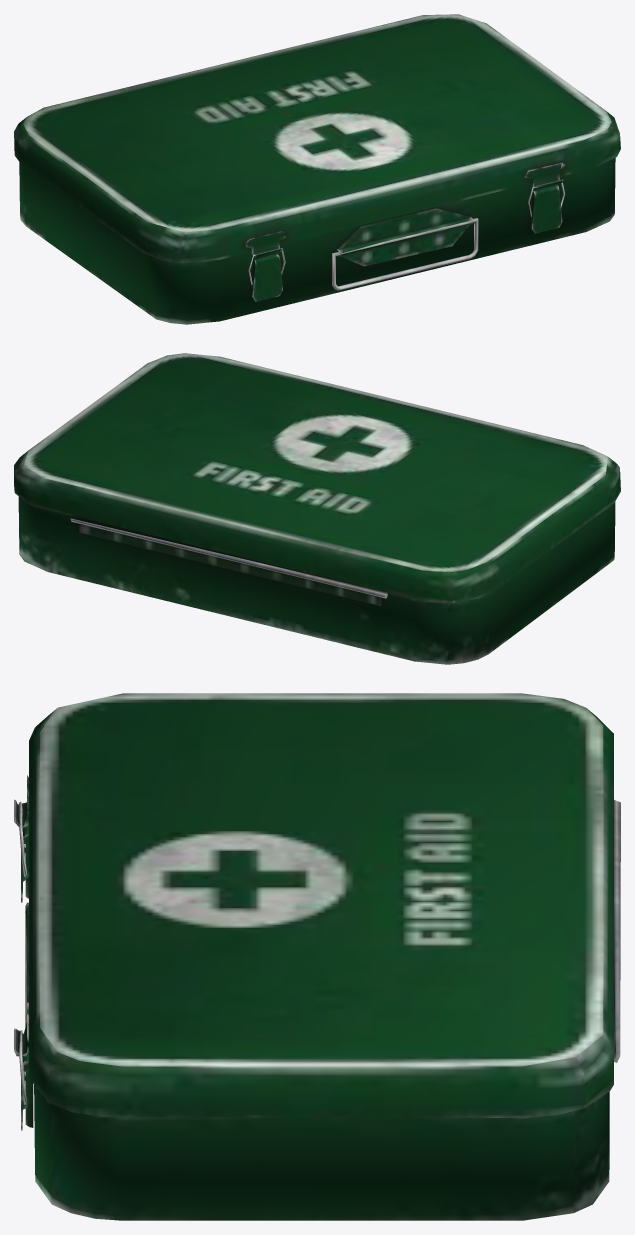
Rendered from medical_box.glb.
3 renders of one model, top to bottom at view 1: azimuth 30°, elevation 25°; view 2: azimuth 150°, elevation 25°; view 3: azimuth 270°, elevation 25°, orthographic. The views are drawn at different scales.
Parts seen in each view (by area): view 1: medical_box_lid, medical_box, medical_box_latch, medical_box_handle; view 2: medical_box_lid, medical_box; view 3: medical_box_lid, medical_box.
Part boxes in pixels (bbox=[...]): medical_box_lid: bbox=[14, 14, 620, 263]; medical_box: bbox=[19, 158, 615, 324]; medical_box_latch: bbox=[251, 184, 562, 301]; medical_box_handle: bbox=[332, 218, 478, 290]; medical_box_lid: bbox=[14, 353, 620, 602]; medical_box: bbox=[18, 496, 615, 664]; medical_box_lid: bbox=[14, 693, 613, 1118]; medical_box: bbox=[25, 800, 620, 1220].
Bounding box in the file's own units: 0.5255 × 0.0967 × 0.3501.
1 material, 1 textured.
